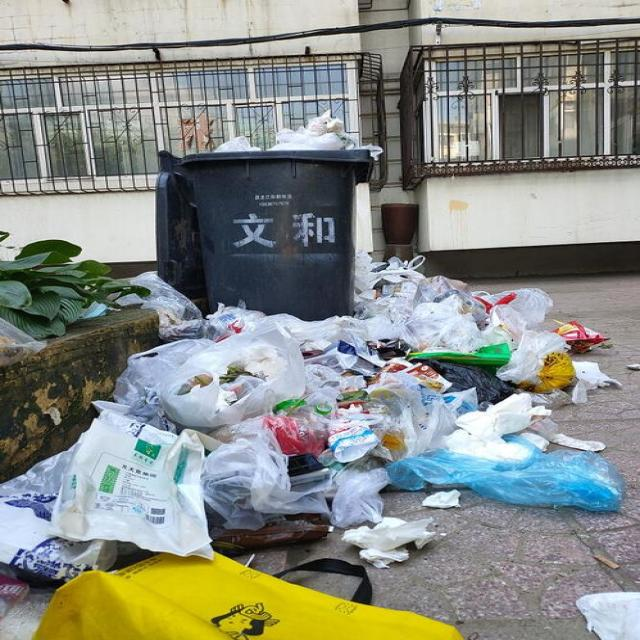garbage: (2, 255, 638, 639)
overflow: (155, 110, 381, 320)
